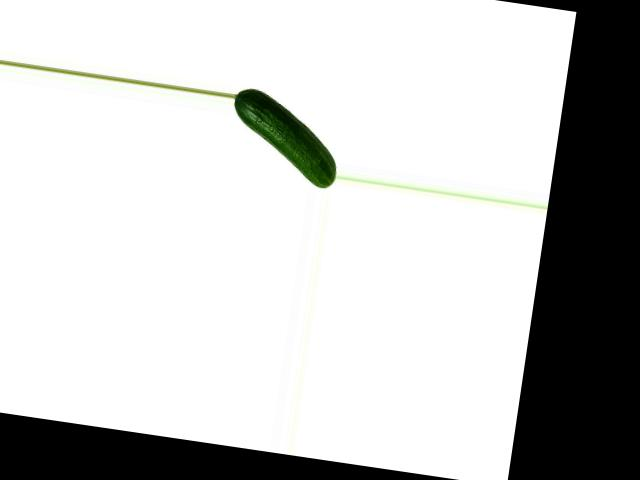cucumber: (223, 85, 347, 189)
